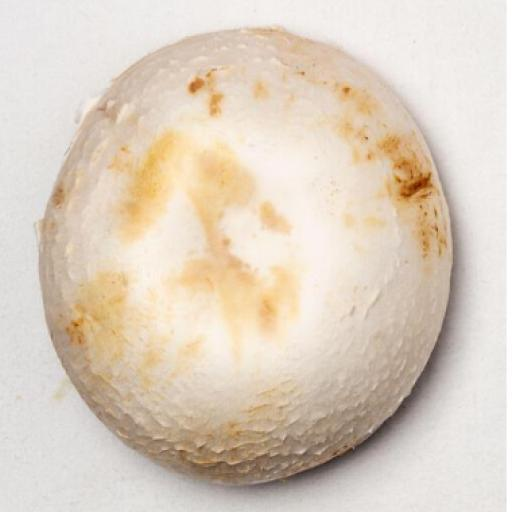mushroom: (33, 25, 461, 495)
